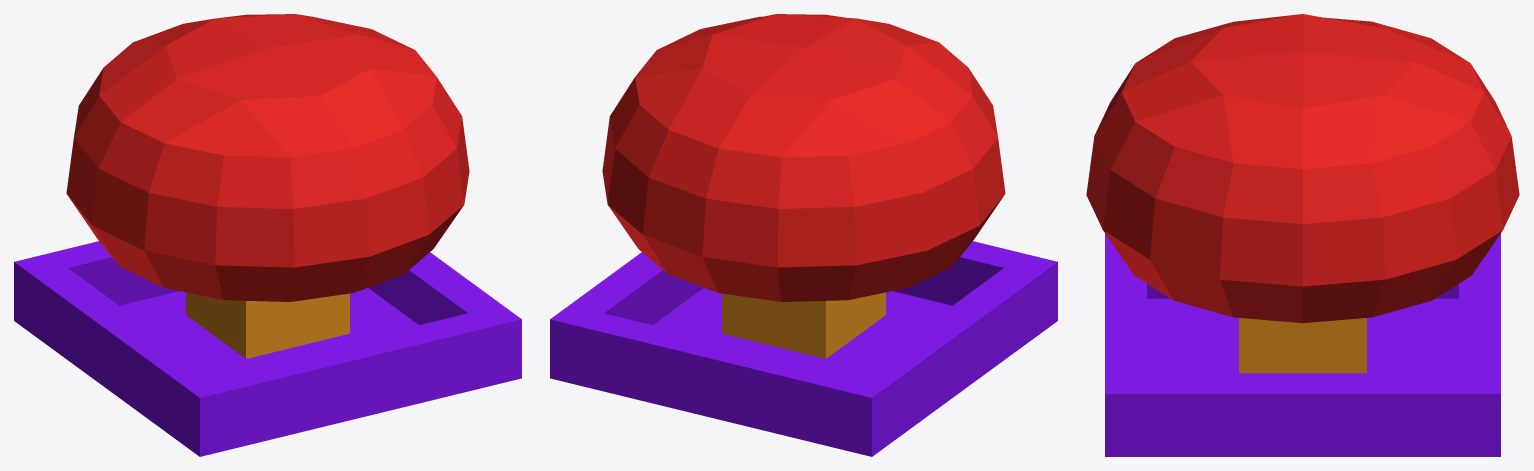
Rendered from SM_Button.fbx.
3 renders of one model, left to right at view 1: azimuth 30°, elevation 25°; view 2: azimuth 150°, elevation 25°; view 3: azimuth 270°, elevation 25°, orthographic. The views are drawn at different scales.
Parts seen in each view (by area): view 1: Cube.019, Button, Cube.018; view 2: Cube.019, Button, Cube.018; view 3: Cube.019, Button, Cube.018.
Part boxes in pixels (left/top/right/bottom): Cube.019: left=66, top=14, right=469, bottom=301; Button: left=14, top=241, right=521, bottom=456; Cube.018: left=186, top=292, right=349, bottom=358; Cube.019: left=602, top=14, right=1005, bottom=301; Button: left=550, top=241, right=1057, bottom=456; Cube.018: left=722, top=292, right=885, bottom=358; Cube.019: left=1086, top=14, right=1519, bottom=323; Button: left=1105, top=233, right=1500, bottom=456; Cube.018: left=1239, top=318, right=1366, bottom=373.
Size of the model in its own units: 147 by 121 by 147.
